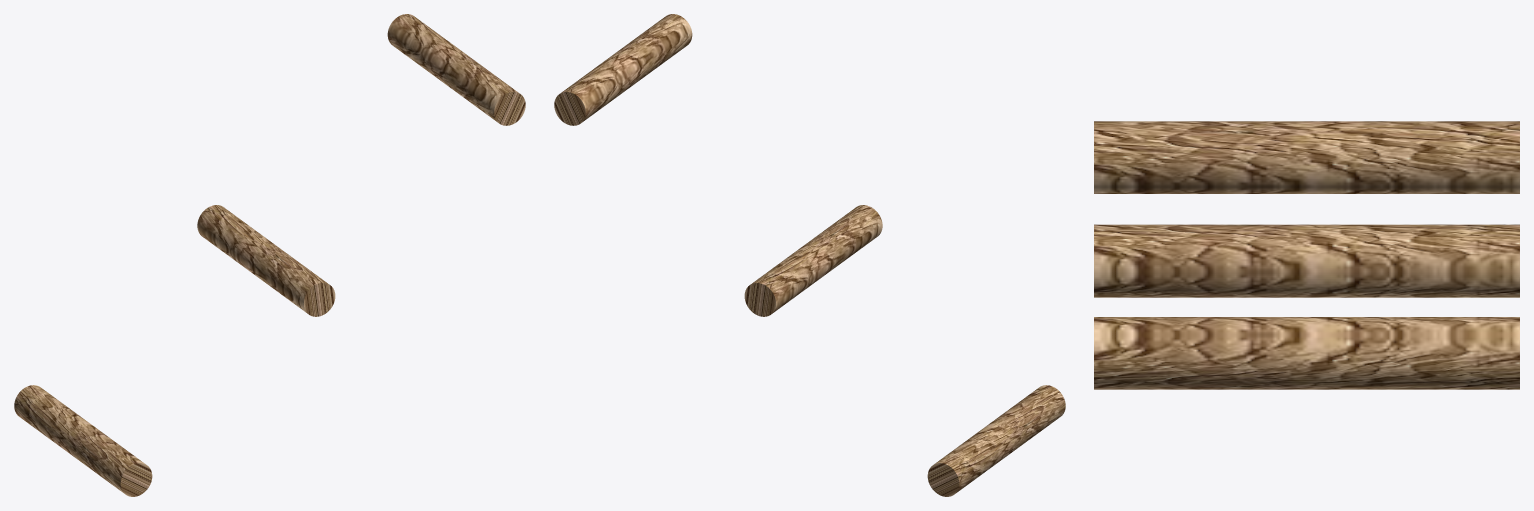
Rendered from ColumnaMiralmonte.obj.
3 views of the same model, side by side, from view 1: azimuth 30°, elevation 25°; view 2: azimuth 150°, elevation 25°; view 3: azimuth 270°, elevation 25° (orthographic). The views are drawn at different scales.
Parts seen in each view (by area): view 1: Object.1, Object.3, Object.2; view 2: Object.1, Object.3, Object.2; view 3: Object.2, Object.1, Object.3.
Part boxes in pixels (bbox=[...]): Object.1: bbox=[387, 14, 525, 125]; Object.3: bbox=[14, 385, 152, 496]; Object.2: bbox=[197, 205, 335, 316]; Object.1: bbox=[554, 14, 692, 125]; Object.3: bbox=[927, 385, 1065, 496]; Object.2: bbox=[744, 205, 882, 316]; Object.2: bbox=[1094, 224, 1519, 297]; Object.1: bbox=[1094, 121, 1519, 193]; Object.3: bbox=[1094, 317, 1519, 389].
Bounding box in the file's own units: 7698 × 5686 × 3505.
1 material, 1 textured.
